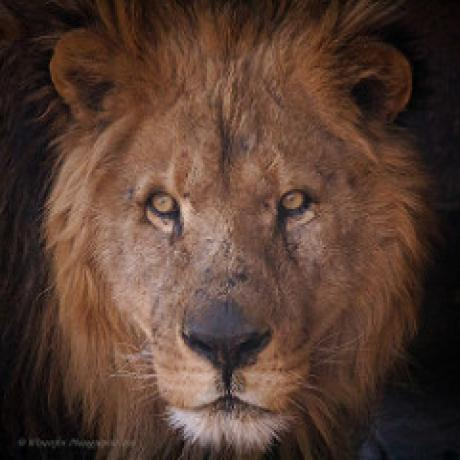Lion: (21, 0, 460, 460)
